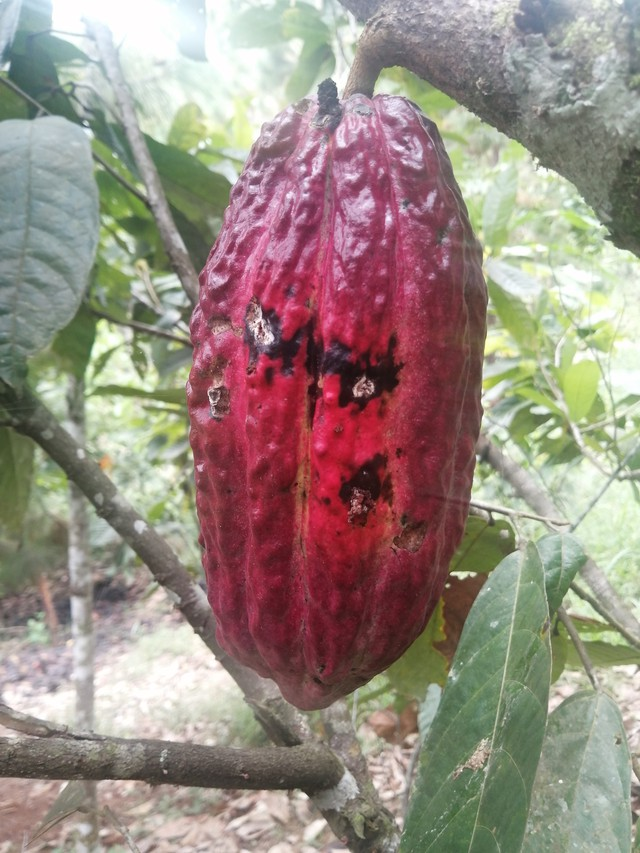carmenta foraseminis: (185, 68, 492, 717)
